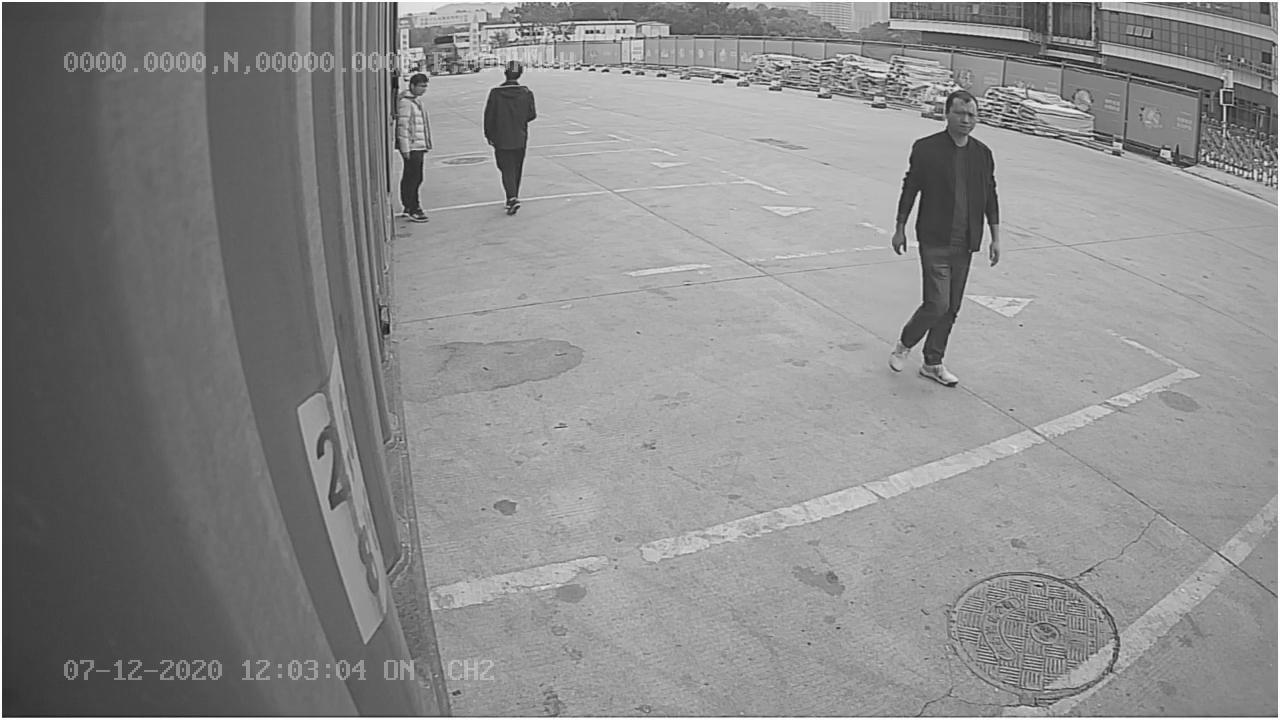person: (881, 84, 1002, 390)
